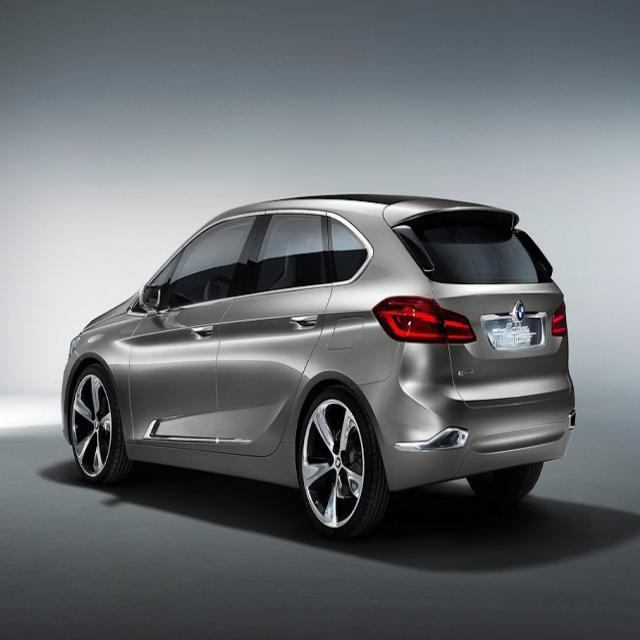back_glass: (390, 208, 550, 292)
back_left_side_light: (372, 292, 479, 346)
back_right_side_light: (548, 298, 568, 339)
door: (217, 205, 336, 454)
front_left_side_door: (126, 206, 266, 444)
front_left_side_mirror: (136, 278, 164, 316)
rear_bumper: (380, 360, 578, 493)
wheel: (296, 384, 386, 541), (69, 362, 130, 483)
